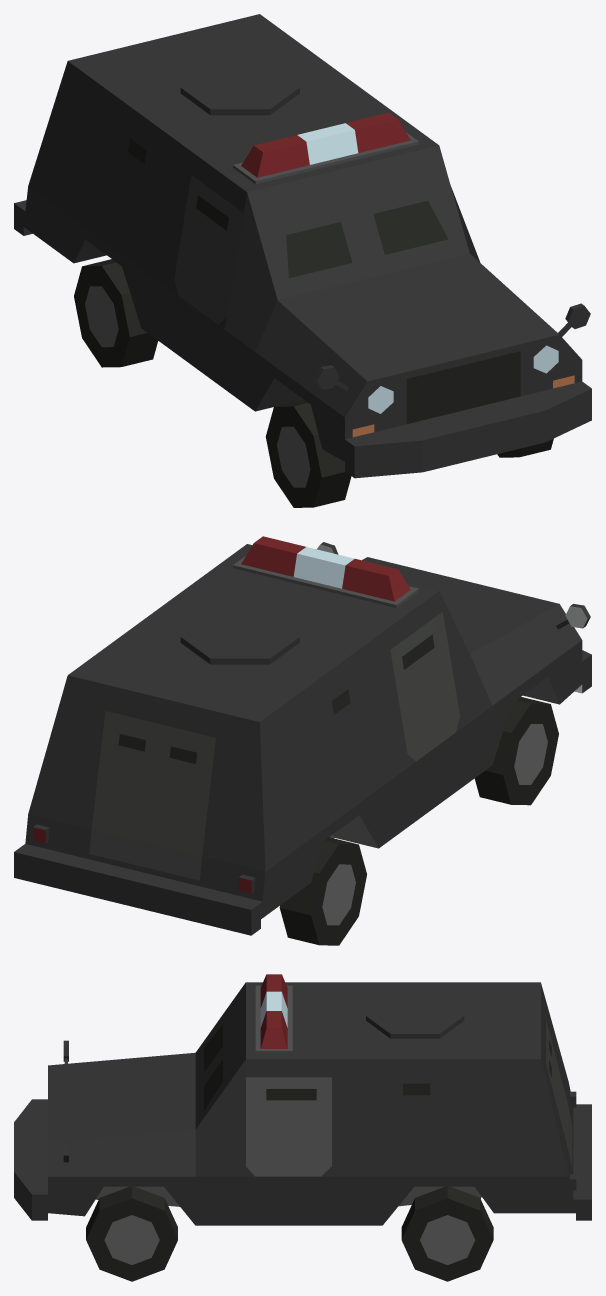
The model's file is Veh_SWAT_APC_02.obj.
The picture shows the model from 3 angles, top to bottom: view 1: azimuth 30°, elevation 25°; view 2: azimuth 150°, elevation 25°; view 3: azimuth 270°, elevation 25°; orthographic projection. The views are drawn at different scales.
Bounding box in the file's own units: 1.4 × 1.39 × 3.13.
